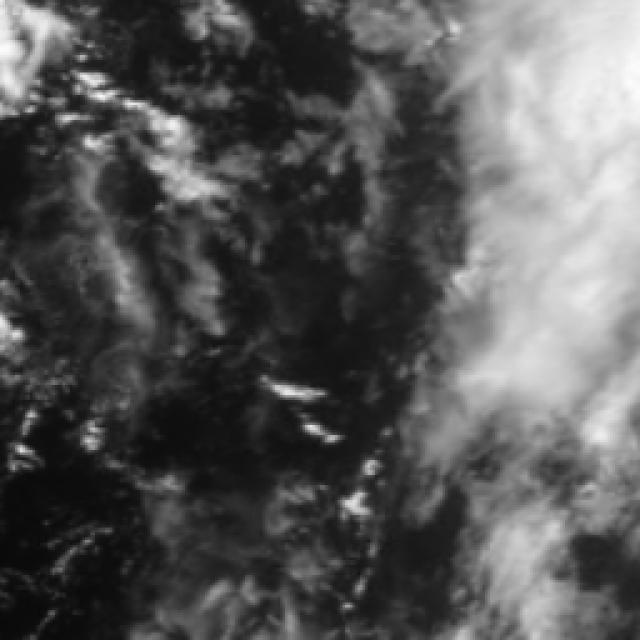CB: (535, 2, 640, 279)
